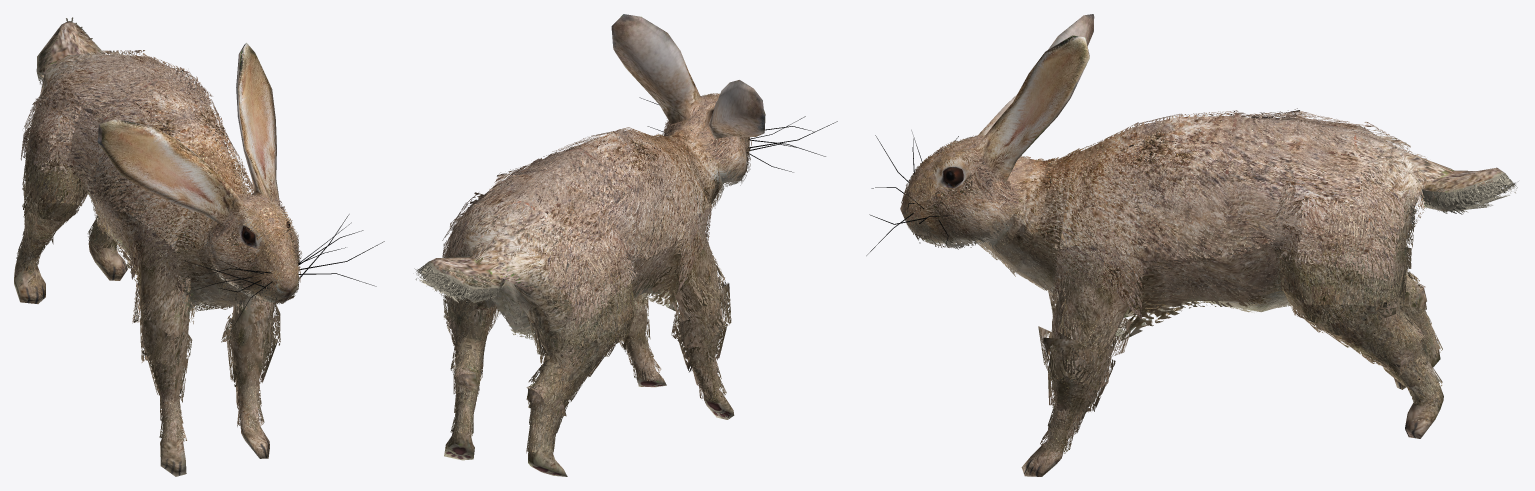
Rendered from rabbit20015.obj.
The picture shows the model from 3 angles, left to right: view 1: azimuth 30°, elevation 25°; view 2: azimuth 150°, elevation 25°; view 3: azimuth 270°, elevation 25°; orthographic projection. The views are drawn at different scales.
Visible parts, largest first — view 1: Rabbit, Fur; view 2: Rabbit, Fur; view 3: Rabbit, Fur.
Boxes of the visible parts, <box> form: Rabbit: <box>14,21,384,476</box>; Fur: <box>16,17,301,441</box>; Rabbit: <box>428,14,837,476</box>; Fur: <box>414,93,751,454</box>; Rabbit: <box>866,14,1504,476</box>; Fur: <box>901,108,1518,453</box>.
Bounding box in the file's own units: 8.93 × 15.93 × 21.11.
